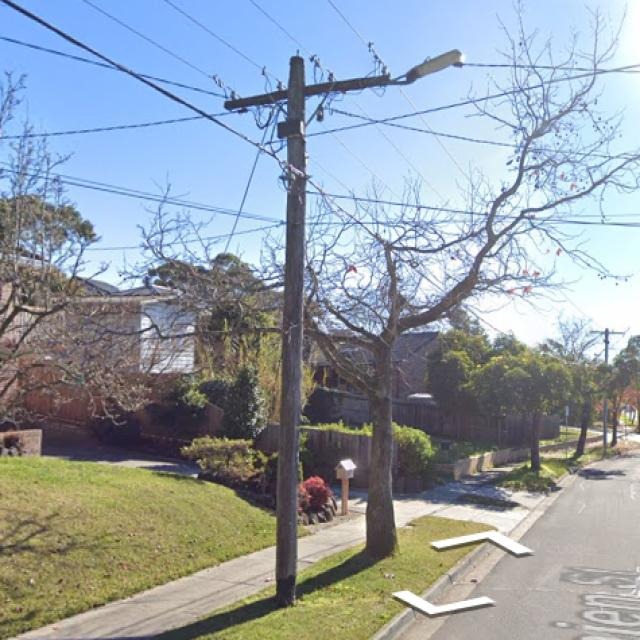crossarm: (222, 72, 390, 110), (590, 329, 625, 336)
streetlight: (386, 48, 466, 88)
timber-pole: (273, 58, 308, 609), (603, 328, 610, 448)
